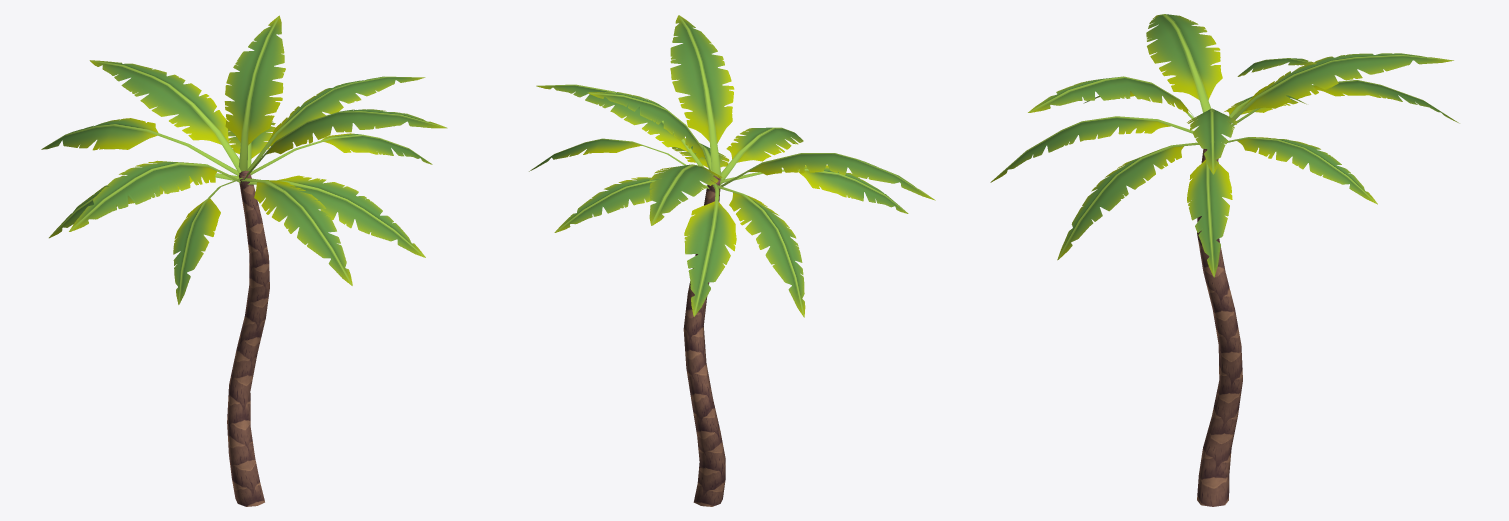
The model's file is palm-1.glb.
The picture shows the model from 3 angles, left to right: view 1: azimuth 30°, elevation 25°; view 2: azimuth 150°, elevation 25°; view 3: azimuth 270°, elevation 25°; orthographic projection. The views are drawn at different scales.
Parts seen in each view (by area): view 1: PalmTree_1; view 2: PalmTree_1; view 3: PalmTree_1.
Part boxes in pixels (x1,y1,x2,y2): PalmTree_1: [41, 15, 447, 506]; PalmTree_1: [529, 15, 935, 506]; PalmTree_1: [990, 14, 1459, 506].
Size of the model in its own units: 5.09 by 5.1 by 4.95.
Materials: 2 (2 with a texture image).
